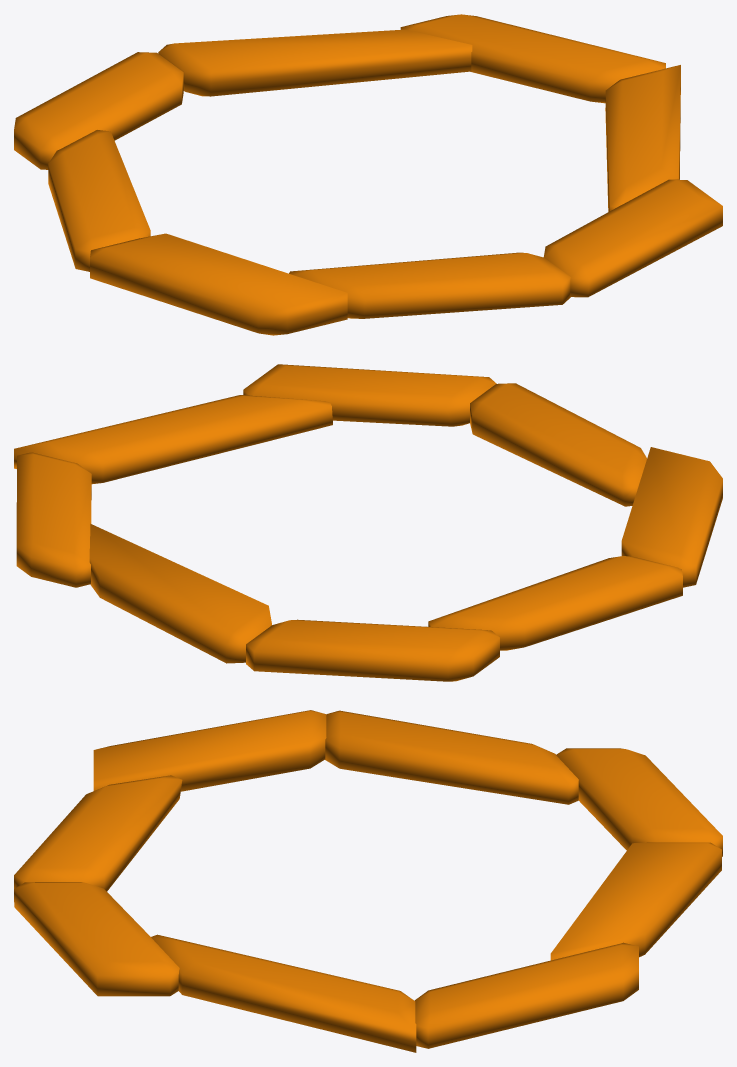
File: fontana bate.fbx
3 views of the same model, one above another, from view 1: azimuth 30°, elevation 25°; view 2: azimuth 150°, elevation 25°; view 3: azimuth 270°, elevation 25° (orthographic). The views are drawn at different scales.
Visible parts, largest first — view 1: Cube.004; view 2: Cube.004; view 3: Cube.004.
Part boxes in pixels (x1,y1,x2,y2): Cube.004: [14, 14, 722, 335]; Cube.004: [14, 364, 722, 681]; Cube.004: [14, 710, 722, 1052].
Size of the model in its own units: 1407 by 72.31 by 1310.
